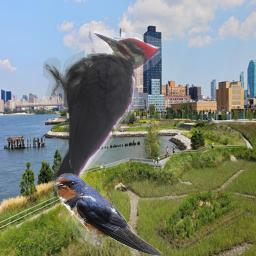Swallow: (53, 173, 162, 256)
Woodpecker: (43, 30, 162, 197)
